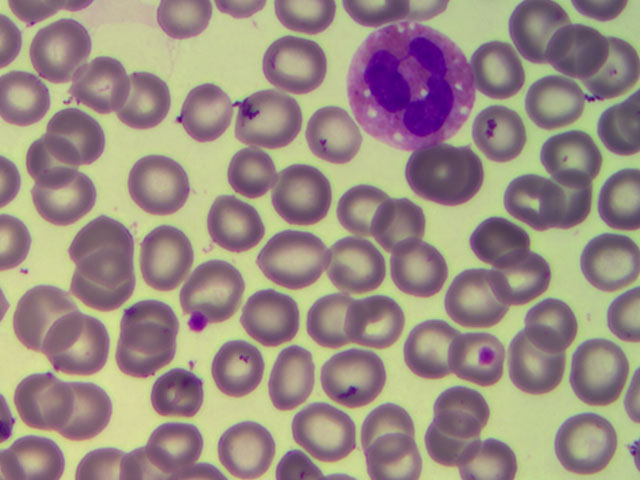Platelets: (184, 315, 208, 330)
RBC: (448, 418, 510, 480), (367, 418, 429, 480), (28, 20, 90, 81), (69, 52, 131, 113), (106, 67, 168, 128), (53, 106, 115, 167), (22, 134, 84, 195), (33, 164, 95, 225), (2, 63, 64, 124), (70, 208, 132, 269), (76, 247, 138, 308), (7, 268, 69, 329), (41, 317, 103, 378), (111, 289, 173, 350), (109, 325, 171, 386), (135, 223, 197, 284), (130, 146, 192, 207), (169, 88, 231, 149), (235, 82, 297, 143), (270, 36, 332, 97), (291, 107, 353, 168), (214, 142, 276, 203), (202, 191, 264, 252), (271, 163, 333, 224), (261, 235, 323, 296), (190, 251, 252, 312), (233, 286, 295, 347), (210, 328, 272, 389), (136, 362, 198, 423), (140, 406, 202, 467), (61, 384, 123, 445), (21, 363, 83, 424), (253, 348, 315, 409), (218, 416, 280, 477), (287, 402, 349, 463), (322, 348, 384, 409), (346, 294, 408, 355), (298, 293, 360, 354), (312, 240, 374, 301), (330, 175, 392, 236), (368, 191, 430, 252), (384, 232, 446, 293), (392, 323, 454, 384), (443, 320, 505, 381), (421, 382, 483, 443), (413, 413, 475, 474), (356, 388, 418, 449), (542, 414, 604, 475), (564, 344, 626, 405), (503, 332, 565, 393), (529, 298, 591, 359), (499, 246, 561, 307), (453, 258, 515, 319), (472, 209, 534, 270), (501, 171, 563, 232), (531, 166, 593, 227), (546, 126, 608, 187), (475, 107, 537, 168), (430, 145, 492, 206), (392, 143, 454, 204), (465, 41, 527, 102), (544, 16, 606, 77), (578, 35, 640, 96), (578, 172, 640, 233), (578, 228, 640, 289), (500, 1, 562, 61), (154, 1, 223, 49)
WBC: (342, 22, 477, 148)
